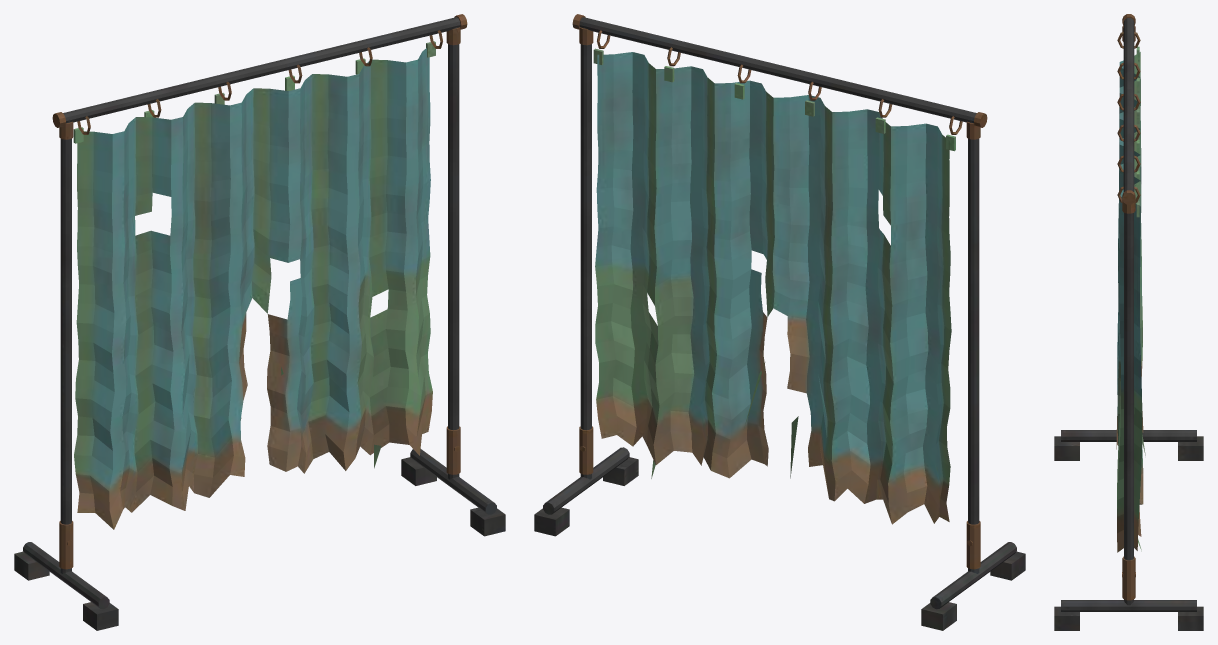
File: HE04_torn_hospital_curtain.glb
The picture shows the model from 3 angles, left to right: view 1: azimuth 30°, elevation 25°; view 2: azimuth 150°, elevation 25°; view 3: azimuth 270°, elevation 25°; orthographic projection. The views are drawn at different scales.
Visible parts, largest first — view 1: Upright; view 2: Upright; view 3: Upright.
Boxes of the visible parts, x1=… form: Upright: x1=14, y1=14, x2=505, y2=630; Upright: x1=534, y1=14, x2=1025, y2=630; Upright: x1=1054, y1=14, x2=1203, y2=630.
Bounding box in the file's own units: 1.76 × 2 × 0.6176.
Materials: 6 (6 with a texture image).
